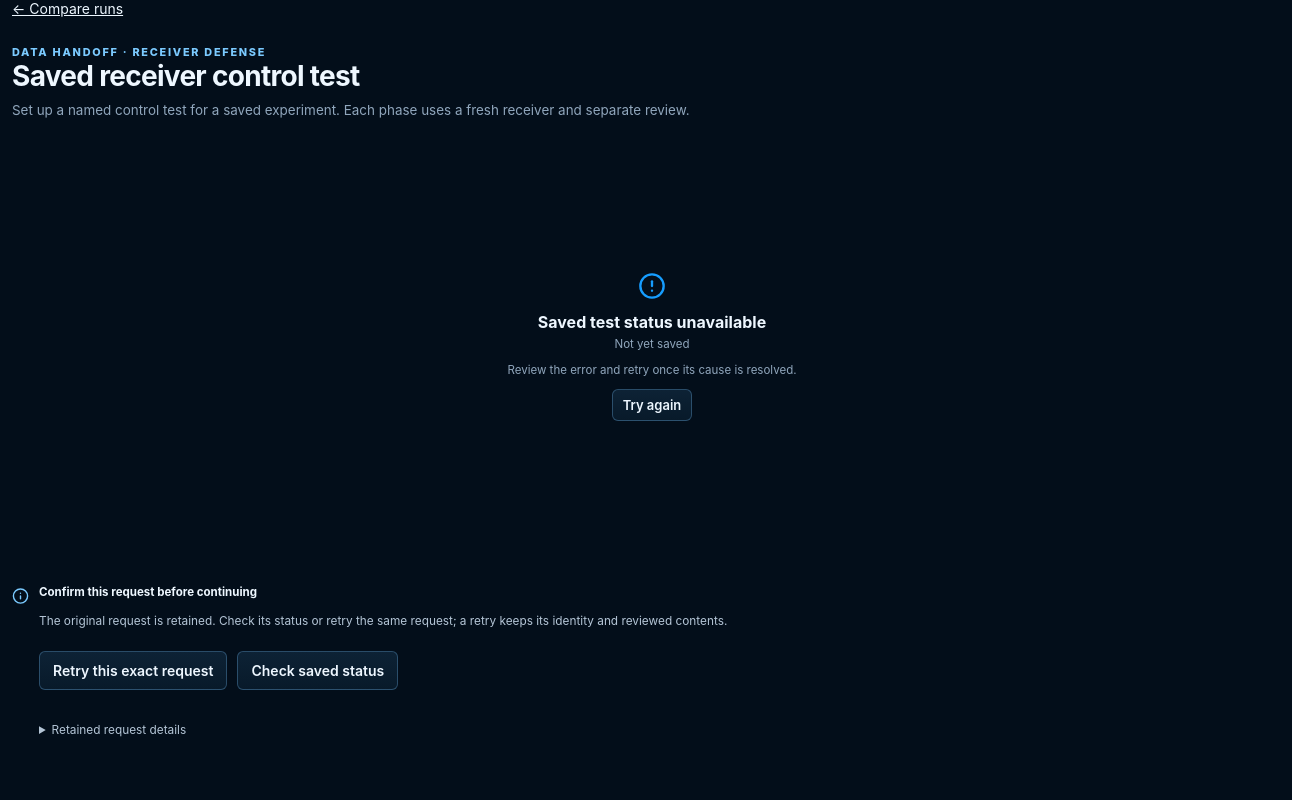
it: does not send an exact retry until browser persistence succeeds
Click the button "Retry this exact request" at [133, 670], box [39, 651, 228, 690]
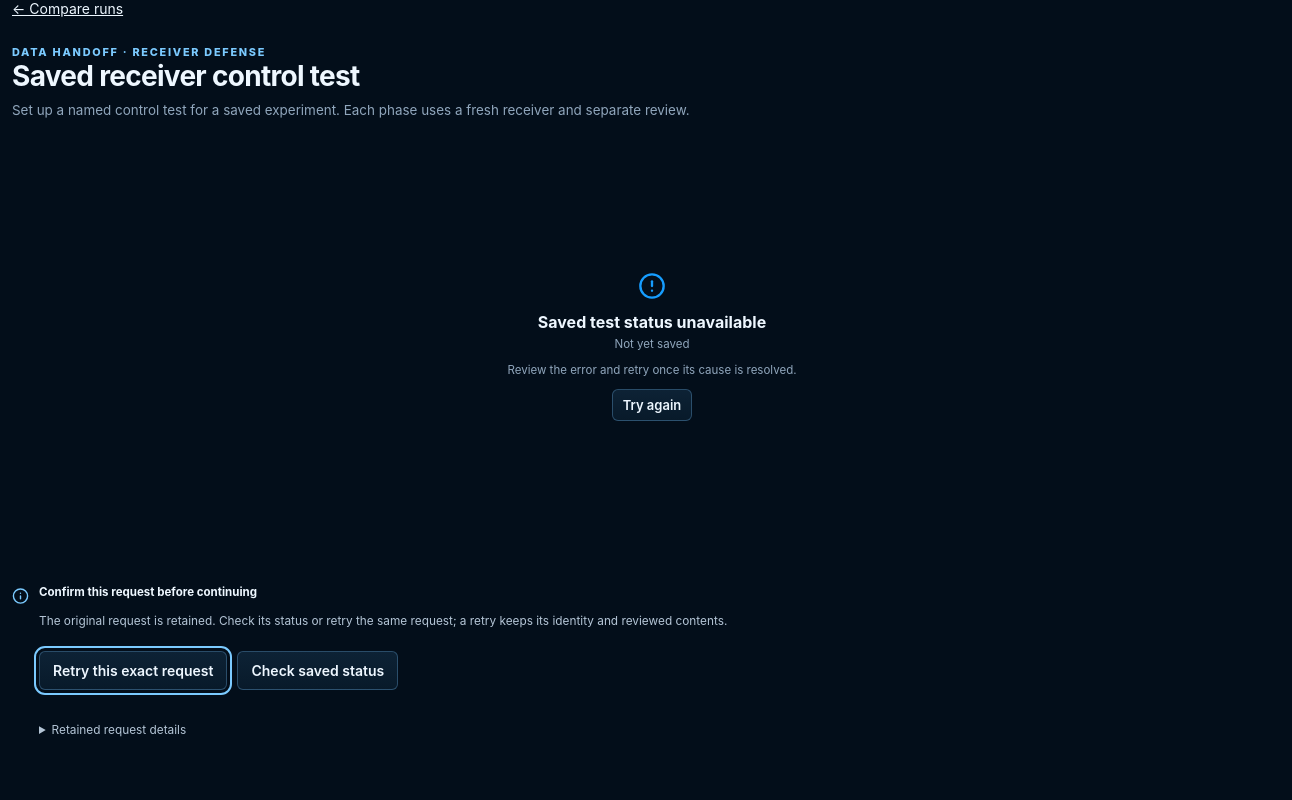
Click the button "Retry this exact request" at [133, 670], box [39, 651, 228, 690]
(page scrolled)
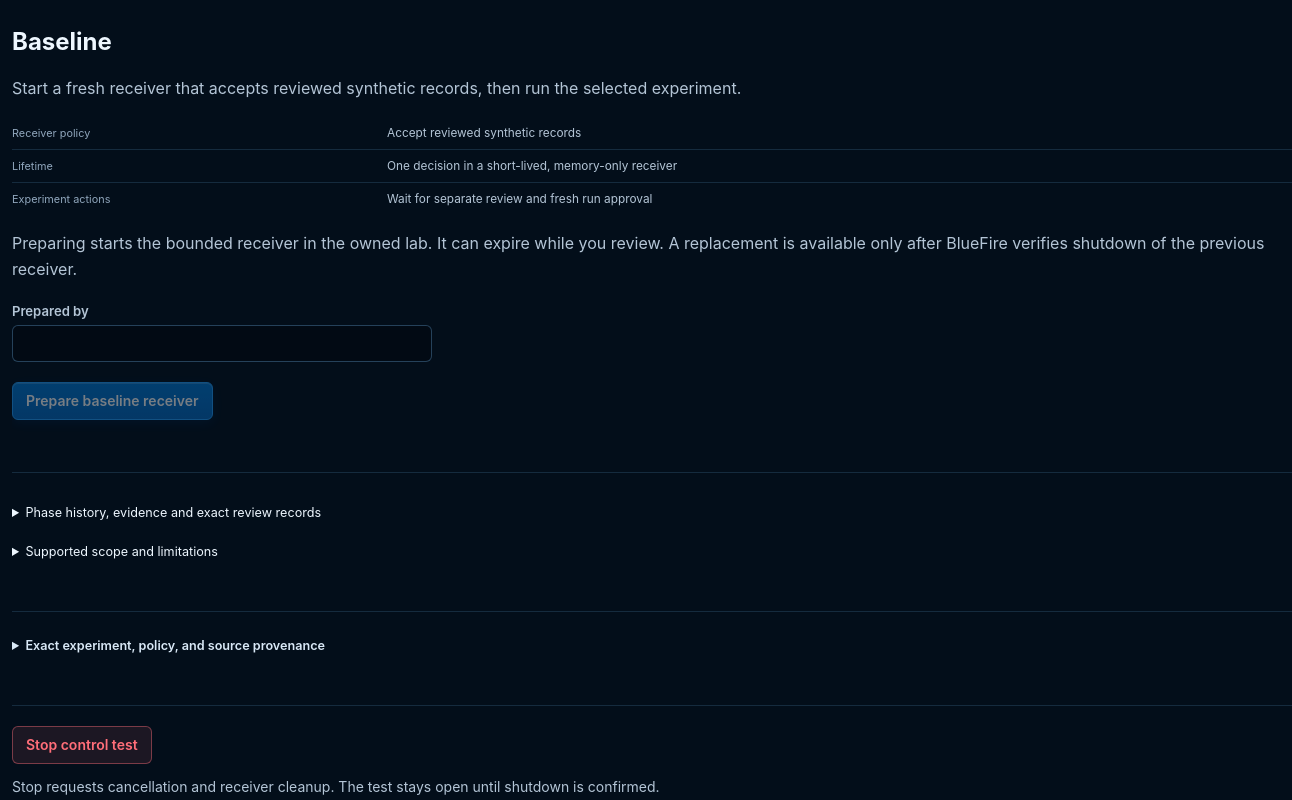
Check: the button "Prepare baseline receiver" is shown, box [12, 382, 212, 420]
